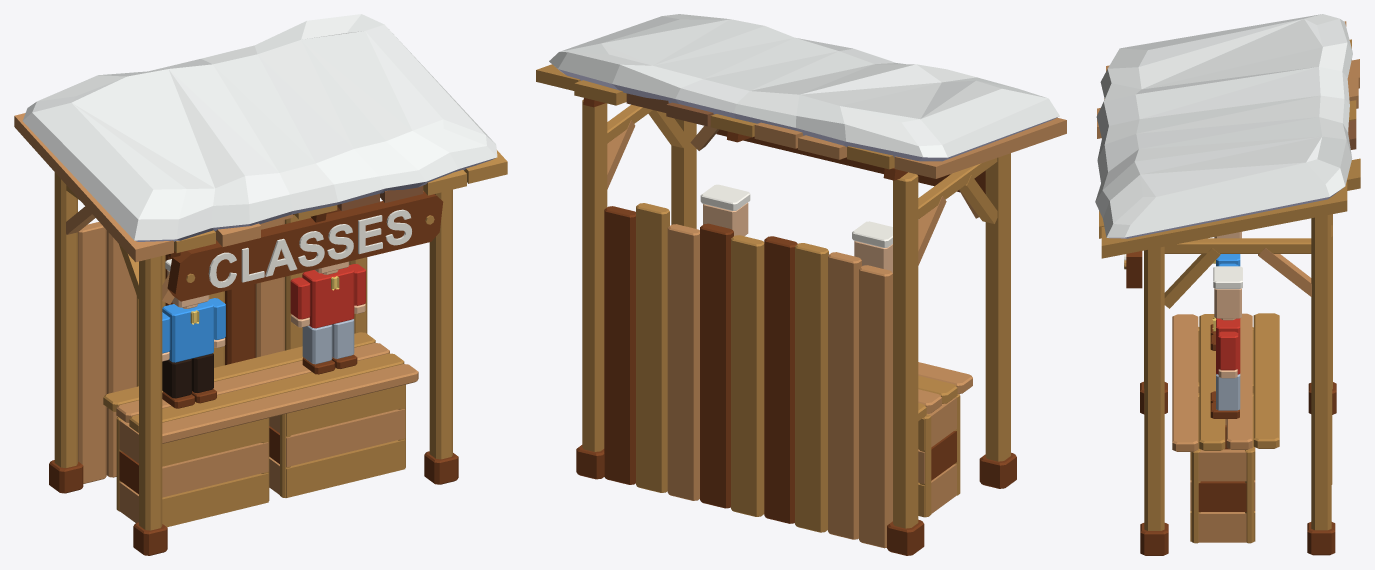
Rendered from Classes.glb.
3 views of the same model, side by side, from view 1: azimuth 30°, elevation 25°; view 2: azimuth 150°, elevation 25°; view 3: azimuth 270°, elevation 25° (orthographic). The views are drawn at different scales.
Visible parts, largest first — view 1: Classes; view 2: Classes; view 3: Classes.
Part boxes in pixels (x1=…): Classes: x1=14, y1=14, x2=507, y2=555; Classes: x1=536, y1=14, x2=1066, y2=555; Classes: x1=1095, y1=14, x2=1360, y2=555.
Bounding box in the file's own units: 2.63 × 2.69 × 1.64.
1 material, 1 textured.
